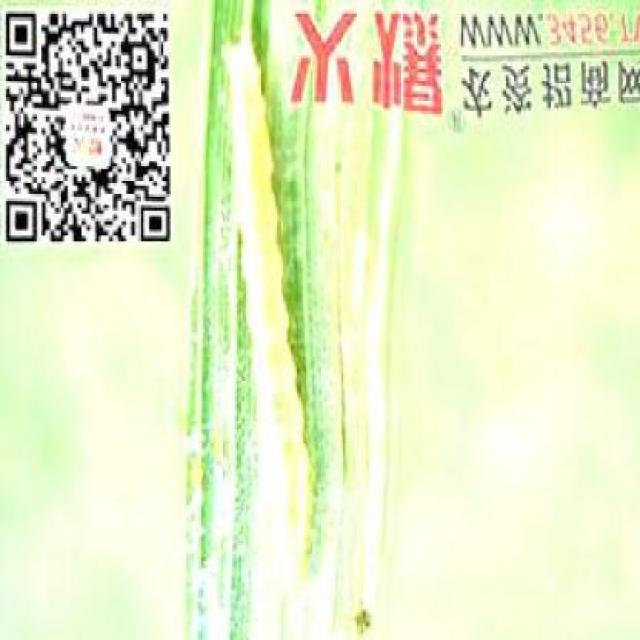leaf-folder: (209, 29, 320, 576)
